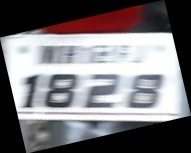character: (126, 72, 163, 109), (83, 72, 119, 108), (44, 72, 76, 108), (20, 74, 39, 108)
